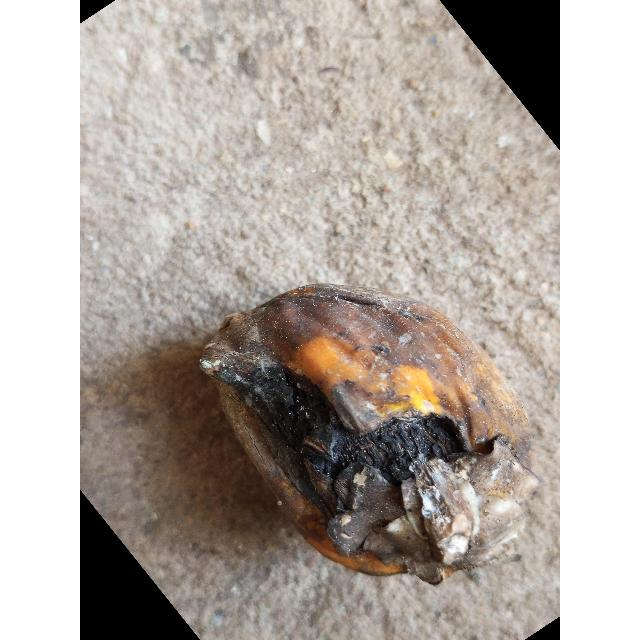damaged: (200, 285, 538, 585)
